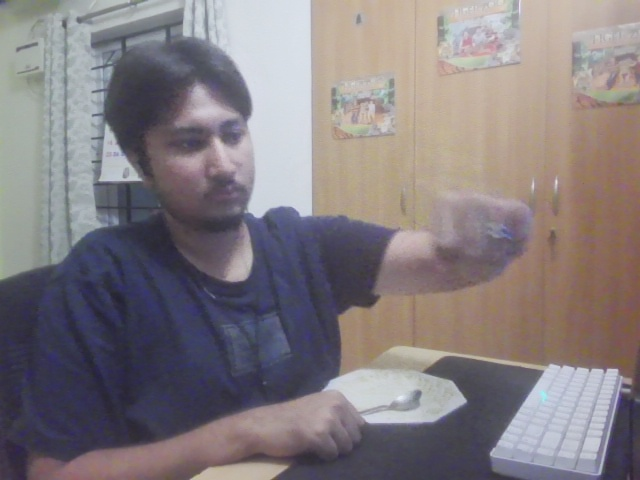yes: (422, 190, 538, 282)
